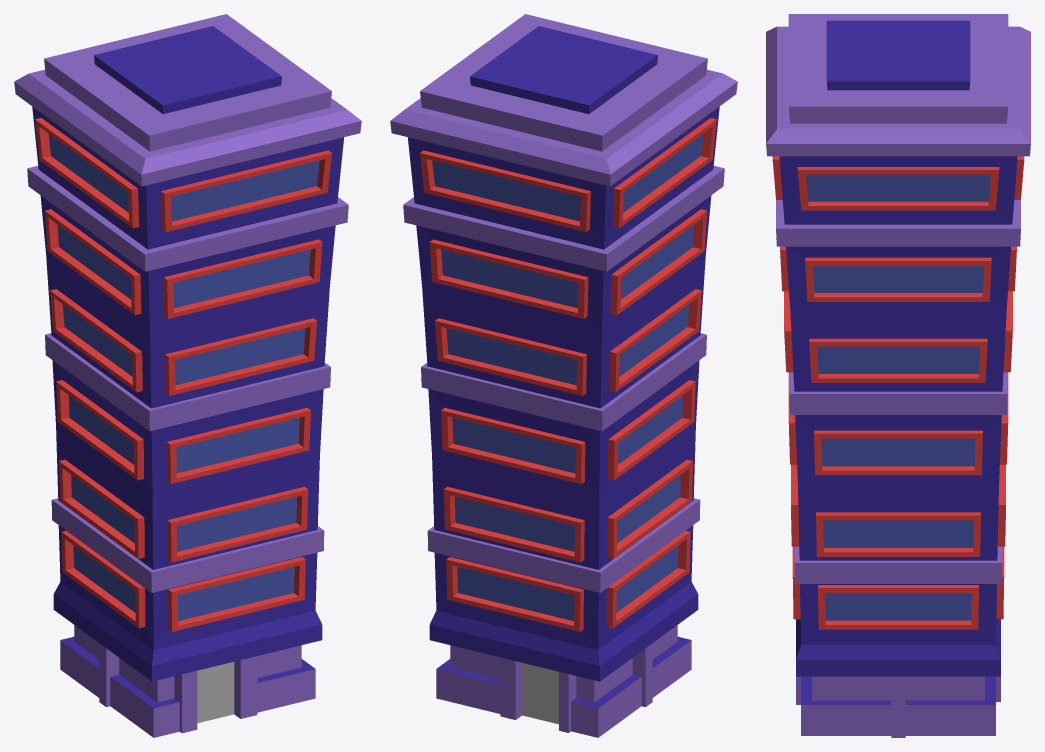
The model's file is Highrise_01.fbx.
3 views of the same model, side by side, from view 1: azimuth 30°, elevation 25°; view 2: azimuth 150°, elevation 25°; view 3: azimuth 270°, elevation 25° (orthographic). The views are drawn at different scales.
Parts seen in each view (by area): view 1: Highrise-1; view 2: Highrise-1; view 3: Highrise-1.
Part boxes in pixels (box(x1,y1,x2,y2)): Highrise-1: box(14, 14, 361, 737); Highrise-1: box(390, 14, 737, 737); Highrise-1: box(766, 14, 1030, 737).
Bounding box in the file's own units: 14.14 × 37.9 × 14.14.
